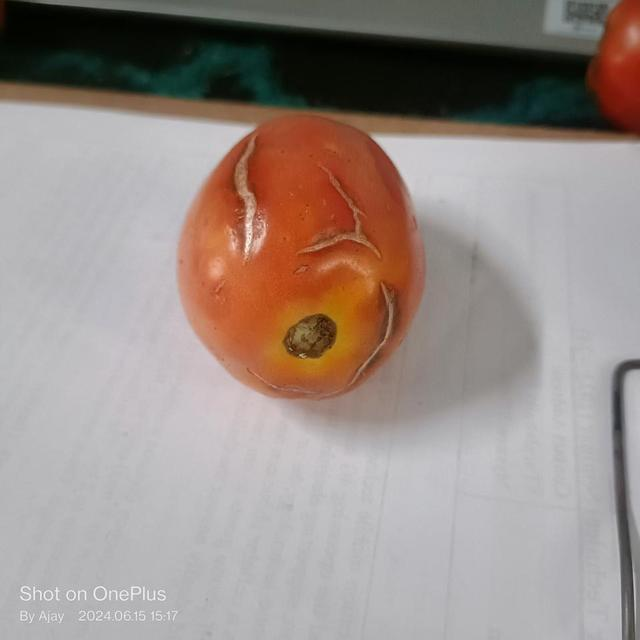Cracking Fruit: (156, 106, 266, 196)
